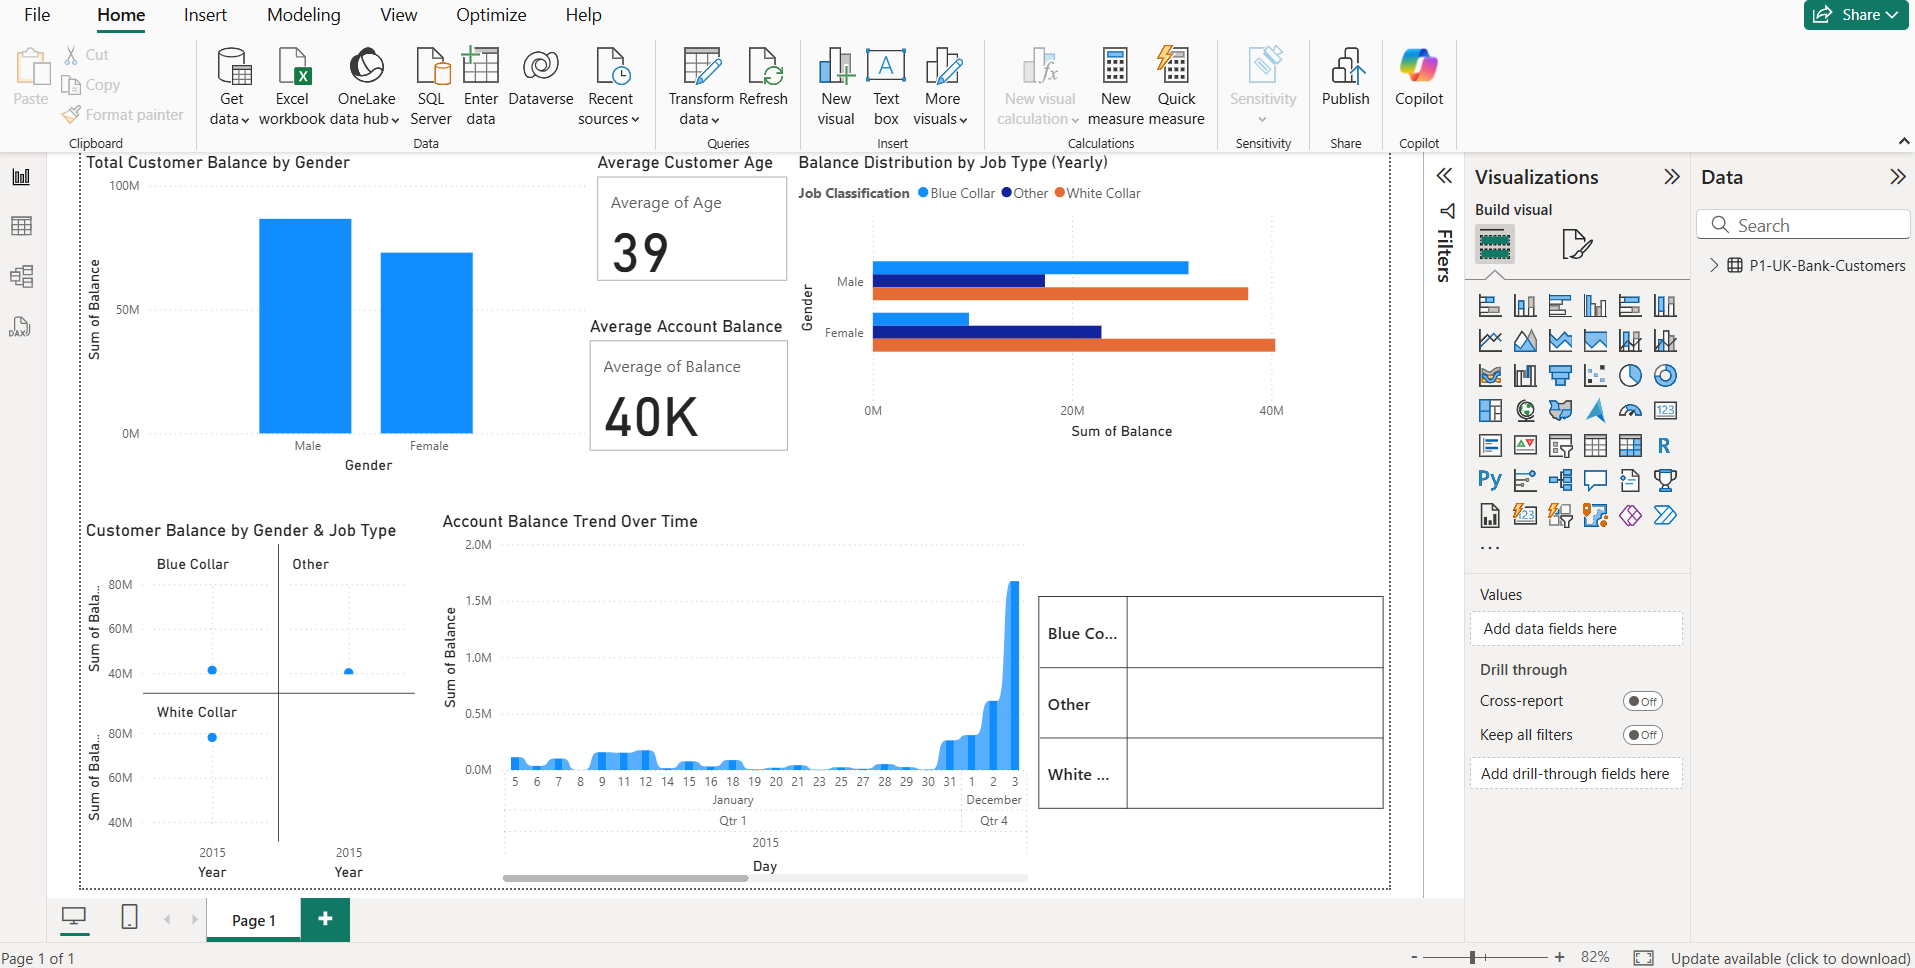

What the dashboard file says about the page in this screenshot:
{"tool":"powerbi","page":{"name":"Page 1","canvas":[1280,720],"ordinal":0},"visuals":[{"type":"columnChart","title":"Total Customer Balance by Gender","fields":{"Category":["P1-UK-Bank-Customers.Gender"],"Y":["Sum(P1-UK-Bank-Customers.Balance)"]},"box":[0,0,500.3,319.3],"z":0},{"type":"clusteredBarChart","title":"Balance Distribution by Job Type (Yearly)","fields":{"Category":["P1-UK-Bank-Customers.Gender"],"Series":["P1-UK-Bank-Customers.Job Classification"],"Y":["Sum(P1-UK-Bank-Customers.Balance)"]},"box":[697.6,0,582.2,285.5],"z":1000},{"type":"lineChart","title":"Customer Balance by Gender & Job Type","fields":{"Category":["P1-UK-Bank-Customers.Date Joined.Variation.Date Hierarchy.Year","P1-UK-Bank-Customers.Date Joined.Variation.Date Hierarchy.Quarter","P1-UK-Bank-Customers.Date Joined.Variation.Date Hierarchy.Month","P1-UK-Bank-Customers.Date Joined.Variation.Date Hierarchy.Day"],"Y":["Sum(P1-UK-Bank-Customers.Balance)"],"Rows":["P1-UK-Bank-Customers.Job Classification"]},"box":[0,360,332.7,360],"z":2000},{"type":"ribbonChart","title":"Account Balance Trend Over Time","fields":{"Category":["P1-UK-Bank-Customers.Date Joined.Variation.Date Hierarchy.Year","P1-UK-Bank-Customers.Date Joined.Variation.Date Hierarchy.Quarter","P1-UK-Bank-Customers.Date Joined.Variation.Date Hierarchy.Month","P1-UK-Bank-Customers.Date Joined.Variation.Date Hierarchy.Day"],"Y":["Sum(P1-UK-Bank-Customers.Balance)"]},"box":[348.8,351.3,583.4,368.7],"z":3000},{"type":"cardVisual","title":"Average Account Balance","fields":{"Data":["Avg(P1-UK-Bank-Customers.Balance)"]},"box":[492.8,160.1,204.8,137.8],"z":4000},{"type":"cardVisual","title":"Average Customer Age","fields":{"Data":["Avg(P1-UK-Bank-Customers.Age)"]},"box":[500.2,0,196.1,131.6],"z":5000},{"type":"cardVisual","fields":{"Rows":["P1-UK-Bank-Customers.Job Classification"]},"box":[932.2,409.6,347.6,260.7],"z":6000}]}

Visuals, with their boxes on the page's 1280x720 design canvas (x1, y1, x2, y2). These are canvas units, not pixel positions in the 1915x968 screenshot, which may show the page scaled, cropped or inside an application window:
"Total Customer Balance by Gender" columnChart: box=[0, 0, 500, 319]
"Balance Distribution by Job Type (Yearly)" clusteredBarChart: box=[698, 0, 1280, 286]
"Customer Balance by Gender & Job Type" lineChart: box=[0, 360, 333, 720]
"Account Balance Trend Over Time" ribbonChart: box=[349, 351, 932, 720]
"Average Account Balance" cardVisual: box=[493, 160, 698, 298]
"Average Customer Age" cardVisual: box=[500, 0, 696, 132]
cardVisual - P1-UK-Bank-Customers.Job Classification: box=[932, 410, 1280, 670]
